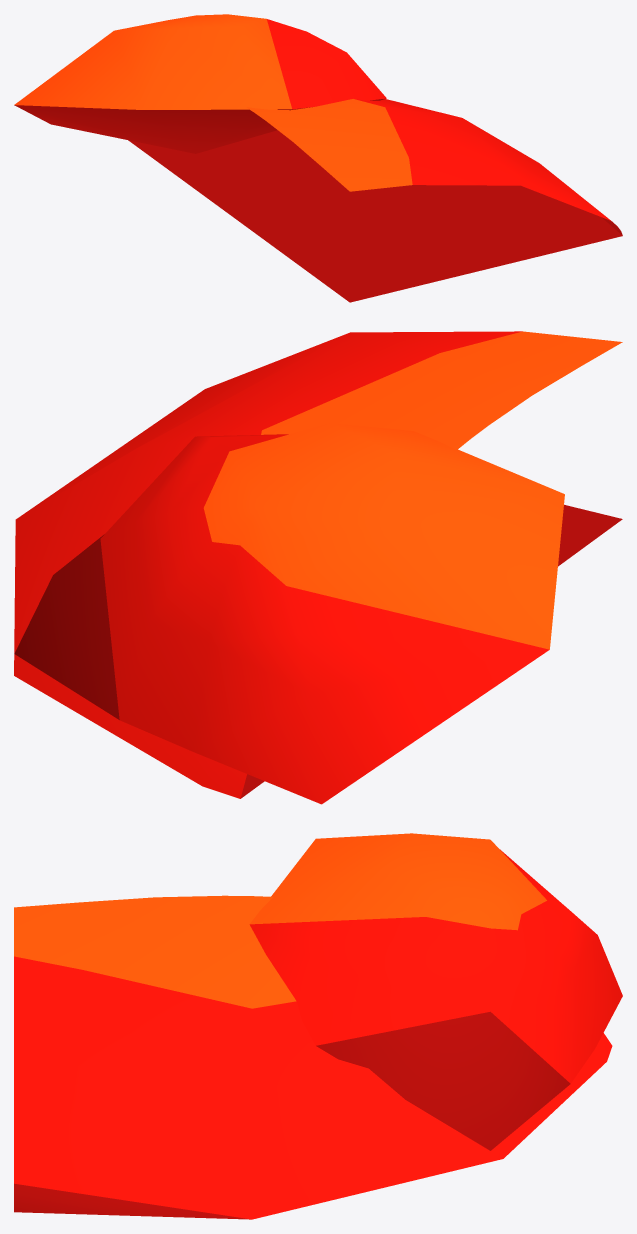
File: shot_zflame_199.glb
3 views of the same model, one above another, from view 1: azimuth 30°, elevation 25°; view 2: azimuth 150°, elevation 25°; view 3: azimuth 270°, elevation 25° (orthographic). The views are drawn at different scales.
Parts seen in each view (by area): view 1: zflame_8_bed_b199, zflame_8_billow1_b199; view 2: zflame_8_billow1_b199, zflame_8_bed_b199; view 3: zflame_8_bed_b199, zflame_8_billow1_b199.
Boxes of the visible parts, bbox=[...] form: zflame_8_bed_b199: bbox=[128, 99, 622, 302]; zflame_8_billow1_b199: bbox=[14, 14, 386, 153]; zflame_8_billow1_b199: bbox=[14, 423, 564, 804]; zflame_8_bed_b199: bbox=[14, 331, 622, 798]; zflame_8_bed_b199: bbox=[14, 895, 612, 1219]; zflame_8_billow1_b199: bbox=[249, 833, 622, 1150].
Size of the model in its own units: 5.85 by 2.1 by 5.75.
